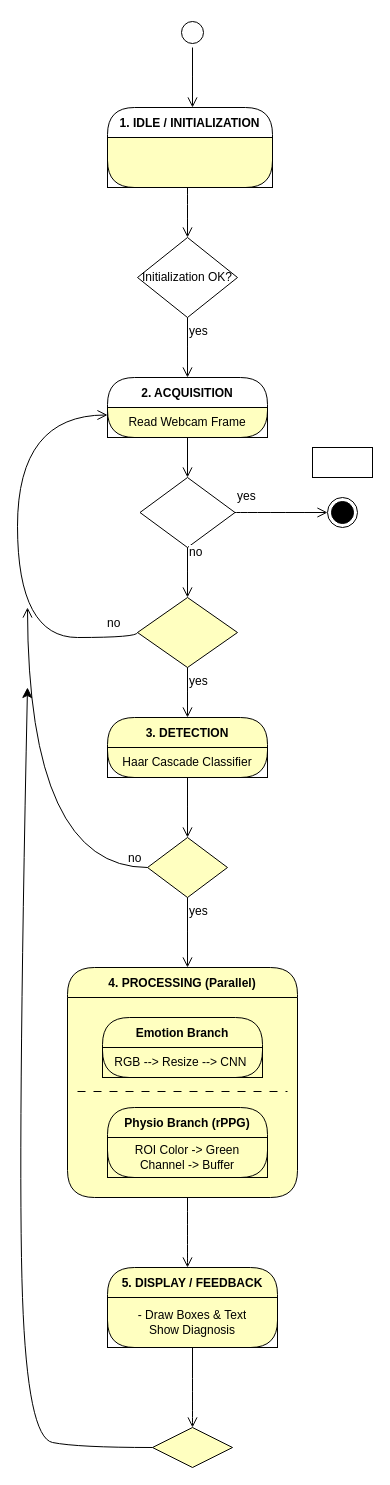
This 390x1485 diagram has some shape labels left out. Each missing label, with the centre of its shape:
- Load pytorch model - Load Haar Cascade - Initialize Buffer: (189,162)
Condition: (192,1447)
Exit: (342,462)
Face found: (187,867)
Frame Ready?: (187,632)
Press 'q' (Exit): (187,512)
